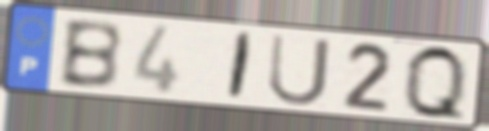2: (342, 41, 395, 114)
4: (131, 22, 187, 98)
B: (56, 19, 125, 92)
I: (224, 30, 257, 103)
Q: (402, 41, 469, 126)
U: (266, 32, 334, 109)
